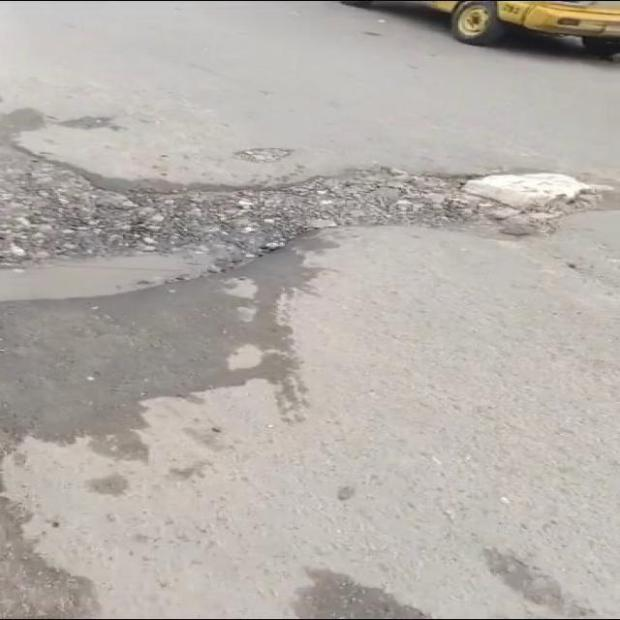lubang: (0, 161, 612, 300), (234, 148, 293, 165)
